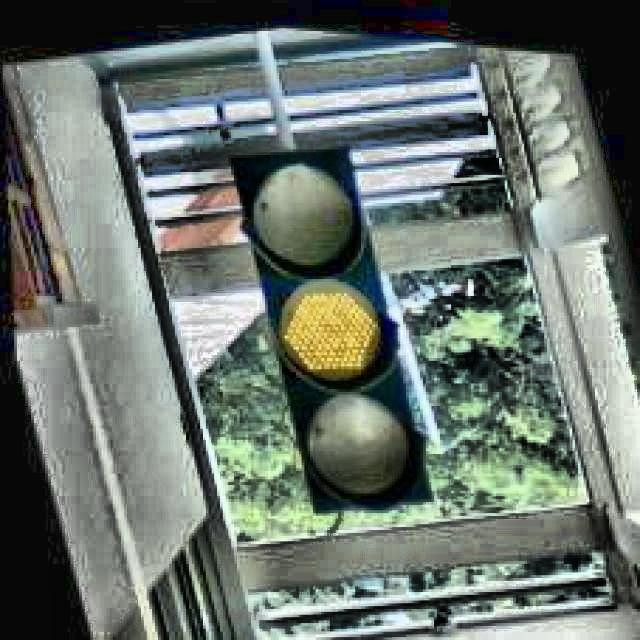yellow: (233, 156, 432, 502)
